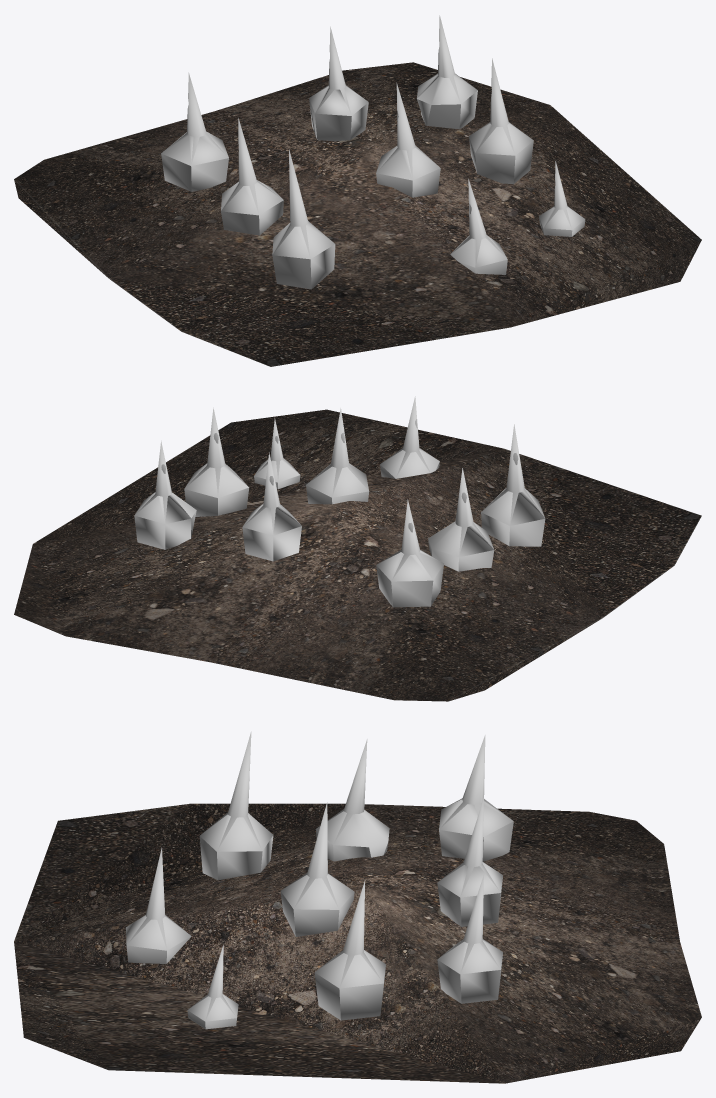
Rendered from Onions_lod2.fbx.
3 renders of one model, top to bottom at view 1: azimuth 30°, elevation 25°; view 2: azimuth 150°, elevation 25°; view 3: azimuth 270°, elevation 25°, orthographic. The views are drawn at different scales.
Parts seen in each view (by area): view 1: Onions_lod2; view 2: Onions_lod2; view 3: Onions_lod2.
Part boxes in pixels (x1,y1,x2,y2): Onions_lod2: [14, 15, 701, 366]; Onions_lod2: [14, 396, 701, 701]; Onions_lod2: [14, 731, 701, 1083].
Size of the model in its own units: 65.75 by 20.2 by 68.29.
